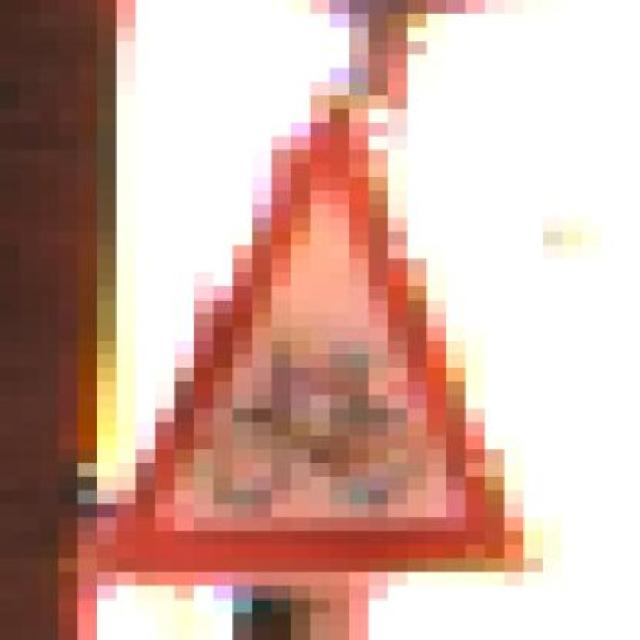CYCLE ROUTE AHEAD WARNING: (97, 82, 563, 586)
